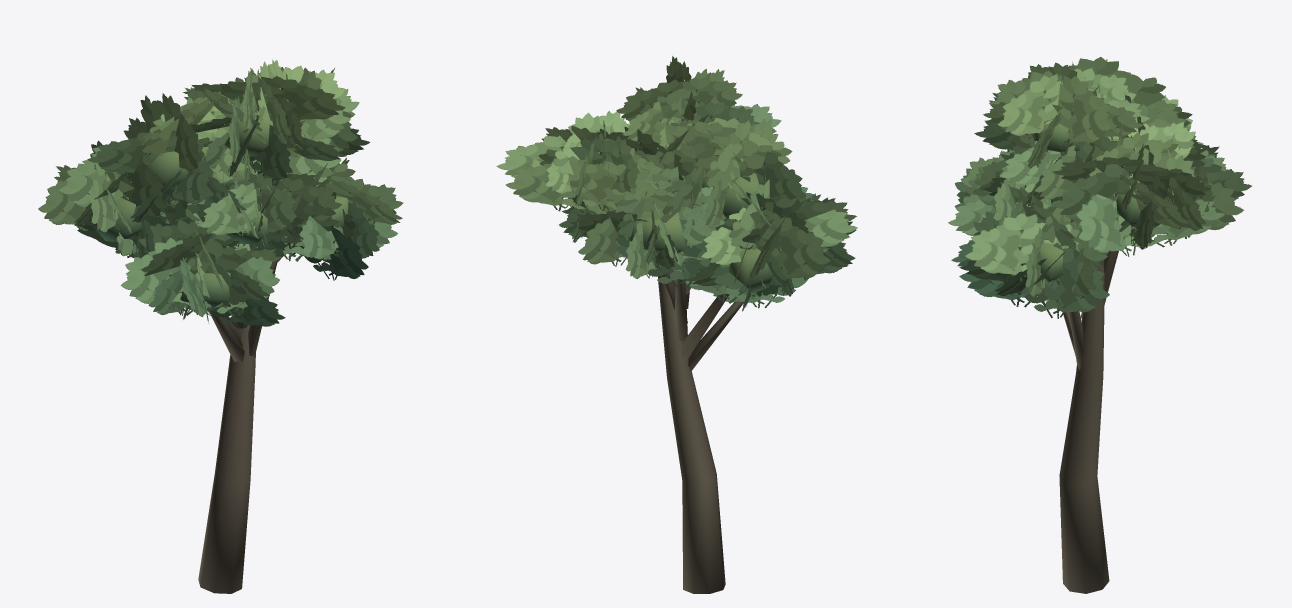
Rendered from canopy-a.glb.
3 views of the same model, side by side, from view 1: azimuth 30°, elevation 25°; view 2: azimuth 150°, elevation 25°; view 3: azimuth 270°, elevation 25° (orthographic). The views are drawn at different scales.
Parts seen in each view (by area): view 1: broadleaf-sprays, forked-trunk, broadleaf-crown-planes; view 2: broadleaf-sprays, forked-trunk, broadleaf-crown-planes; view 3: broadleaf-sprays, forked-trunk, broadleaf-crown-planes.
Part boxes in pixels (x1=…): broadleaf-sprays: x1=38, y1=59, x2=403, y2=328; forked-trunk: x1=198, y1=162, x2=283, y2=593; broadleaf-crown-planes: x1=91, y1=114, x2=348, y2=309; broadleaf-sprays: x1=496, y1=56, x2=857, y2=311; forked-trunk: x1=657, y1=267, x2=743, y2=593; broadleaf-crown-planes: x1=568, y1=113, x2=781, y2=293; broadleaf-sprays: x1=948, y1=57, x2=1251, y2=318; forked-trunk: x1=1059, y1=251, x2=1118, y2=593; broadleaf-crown-planes: x1=994, y1=119, x2=1165, y2=282.
Size of the model in its own units: 5.19 by 6.99 by 4.16.
Materials: 2 (1 with a texture image).
